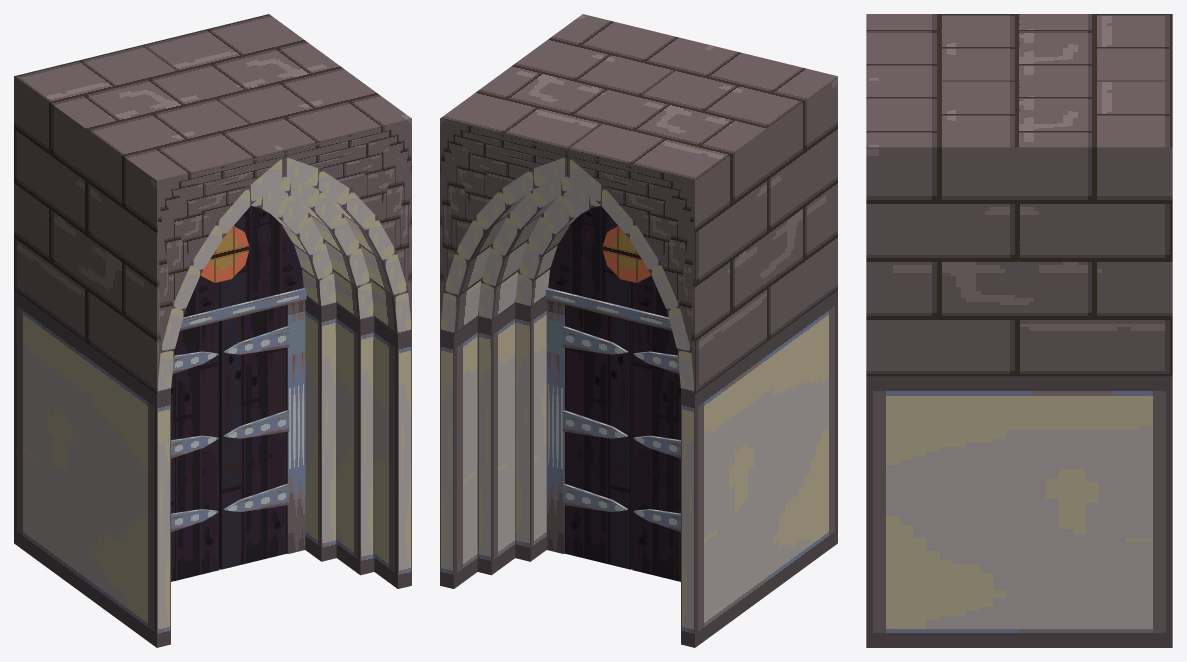
Rendered from door_boss.glb.
3 views of the same model, side by side, from view 1: azimuth 30°, elevation 25°; view 2: azimuth 150°, elevation 25°; view 3: azimuth 270°, elevation 25° (orthographic). The views are drawn at different scales.
Parts seen in each view (by area): view 1: portal, leaf_a, leaf_b; view 2: portal, leaf_a, leaf_b; view 3: portal.
Part boxes in pixels (left/top/right/bottom): portal: left=14, top=14, right=411, bottom=647; leaf_a: left=219, top=305, right=289, bottom=569; leaf_b: left=171, top=321, right=219, bottom=581; portal: left=440, top=14, right=837, bottom=647; leaf_a: left=562, top=305, right=632, bottom=569; leaf_b: left=632, top=321, right=680, bottom=581; portal: left=866, top=14, right=1172, bottom=647.
Bounding box in the file's own units: 2 × 3.5 × 1.94.
1 material, 1 textured.
